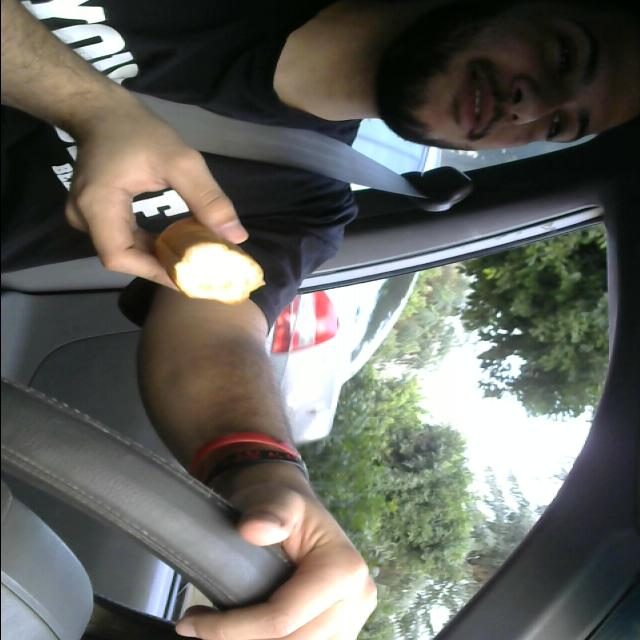eating: (150, 212, 276, 306)
